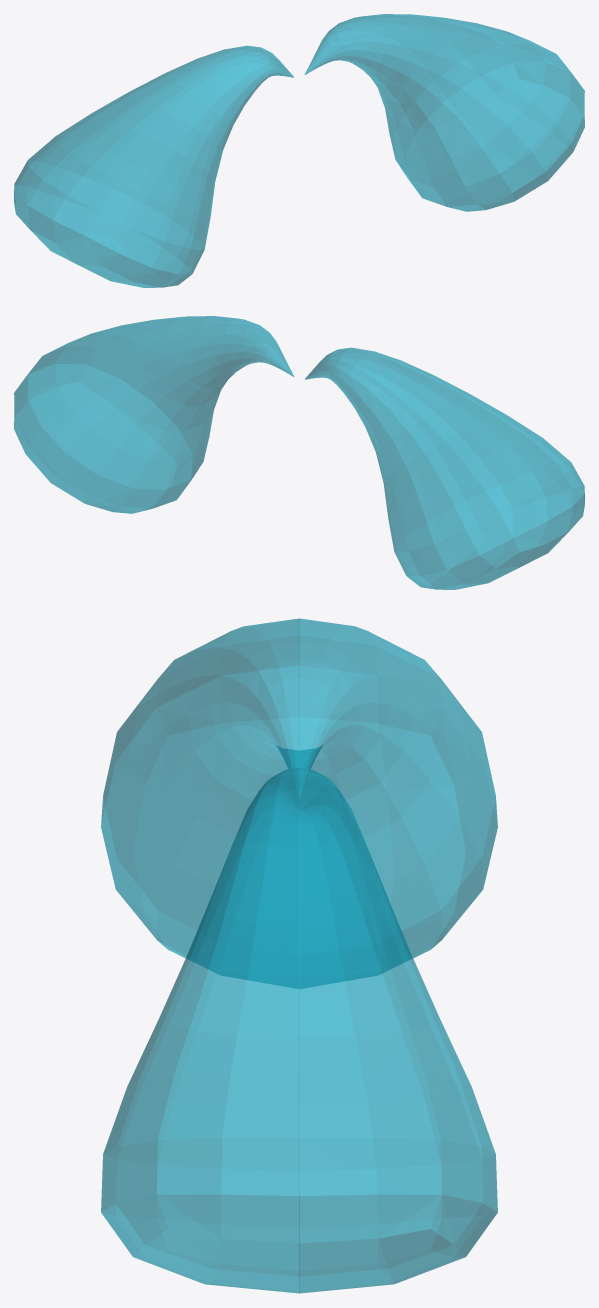
File: Гисторькя(wa).obj
3 views of the same model, one above another, from view 1: azimuth 30°, elevation 25°; view 2: azimuth 150°, elevation 25°; view 3: azimuth 270°, elevation 25° (orthographic). The views are drawn at different scales.
Parts seen in each view (by area): view 1: Cube.001; view 2: Cube.001; view 3: Cube.001.
Boxes of the visible parts, <box> form: Cube.001: <box>14,14,584,287</box>; Cube.001: <box>14,316,584,589</box>; Cube.001: <box>101,618,497,1293</box>.
Size of the model in its own units: 64.62 by 23.05 by 20.42.
